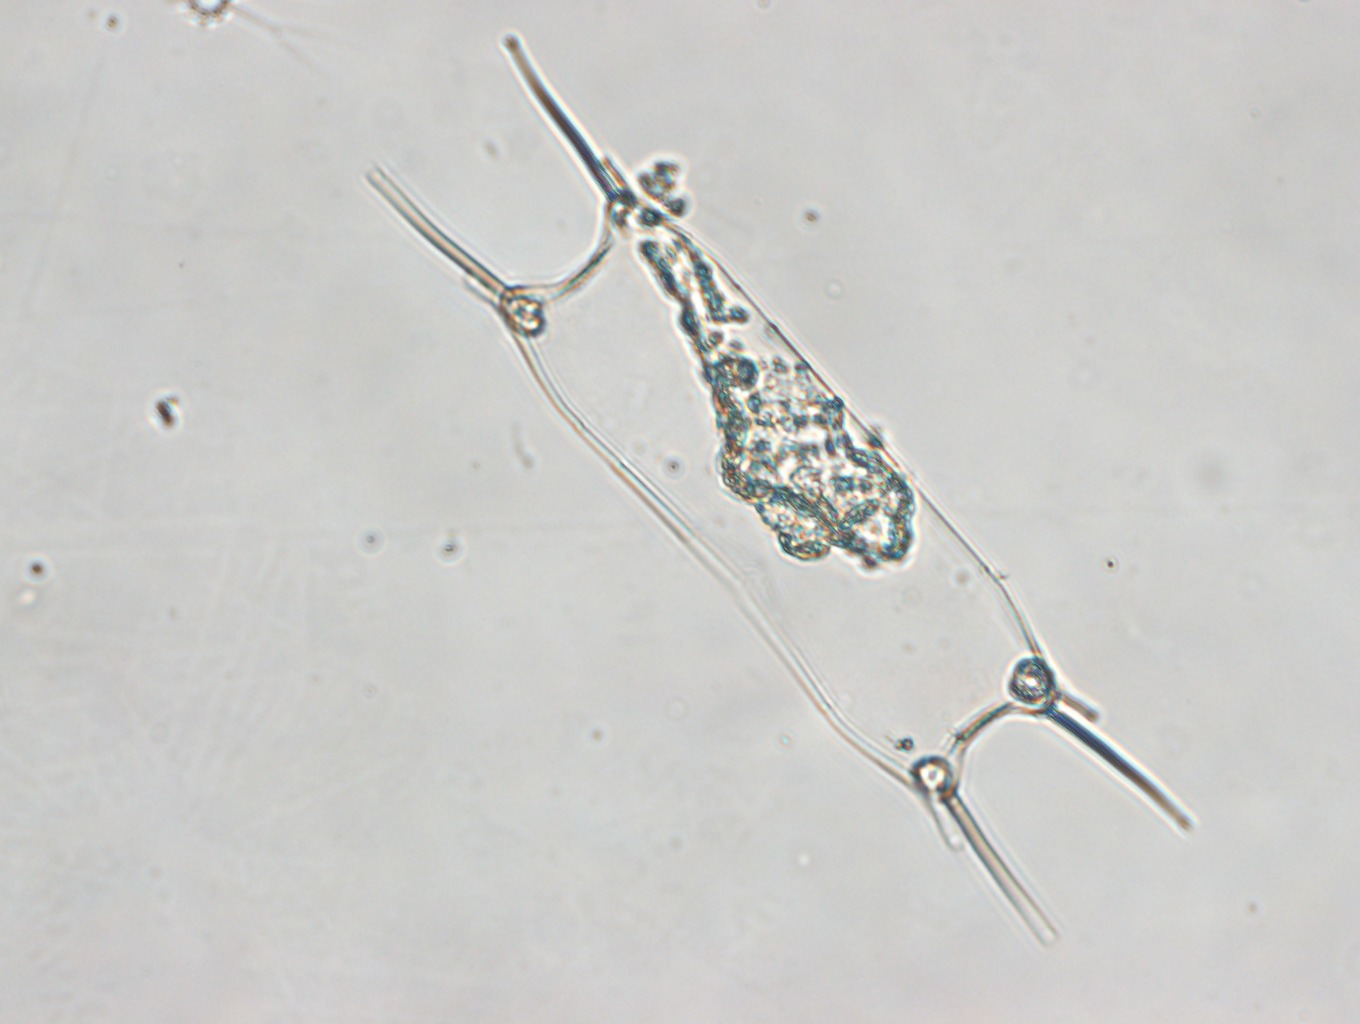biddulphia: (362, 30, 1196, 945)
